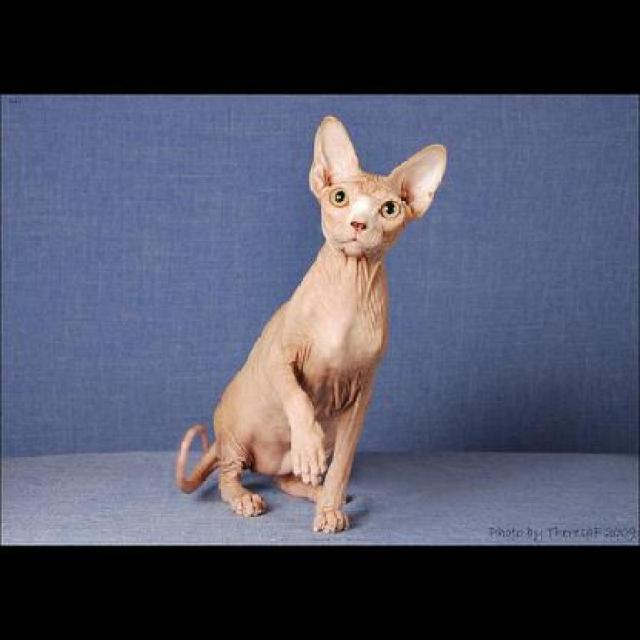unauthorized: (174, 112, 448, 534)
